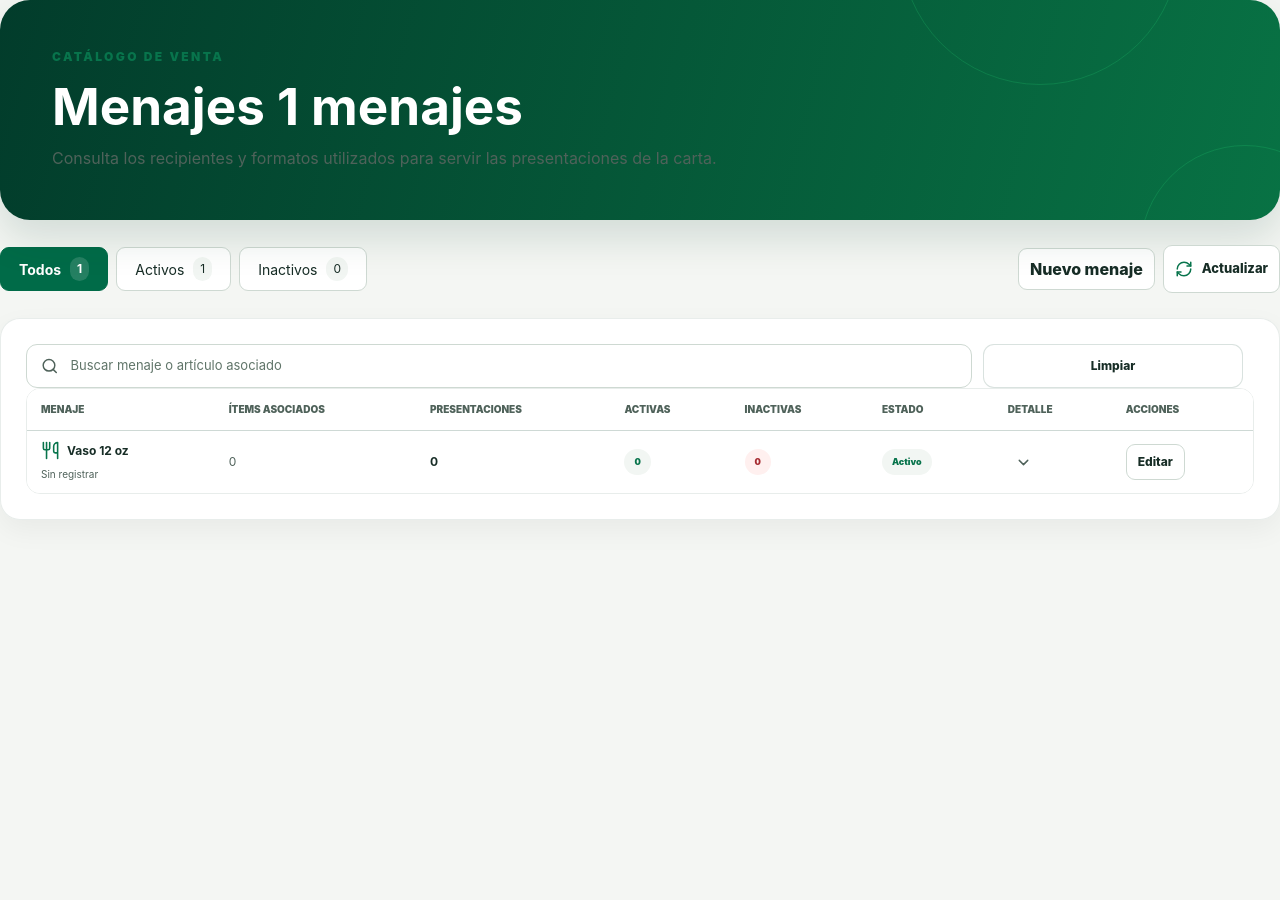
rejects zero measurements without sending a write
Click the button "Editar" at (1155, 462), box [1126,444,1185,480]
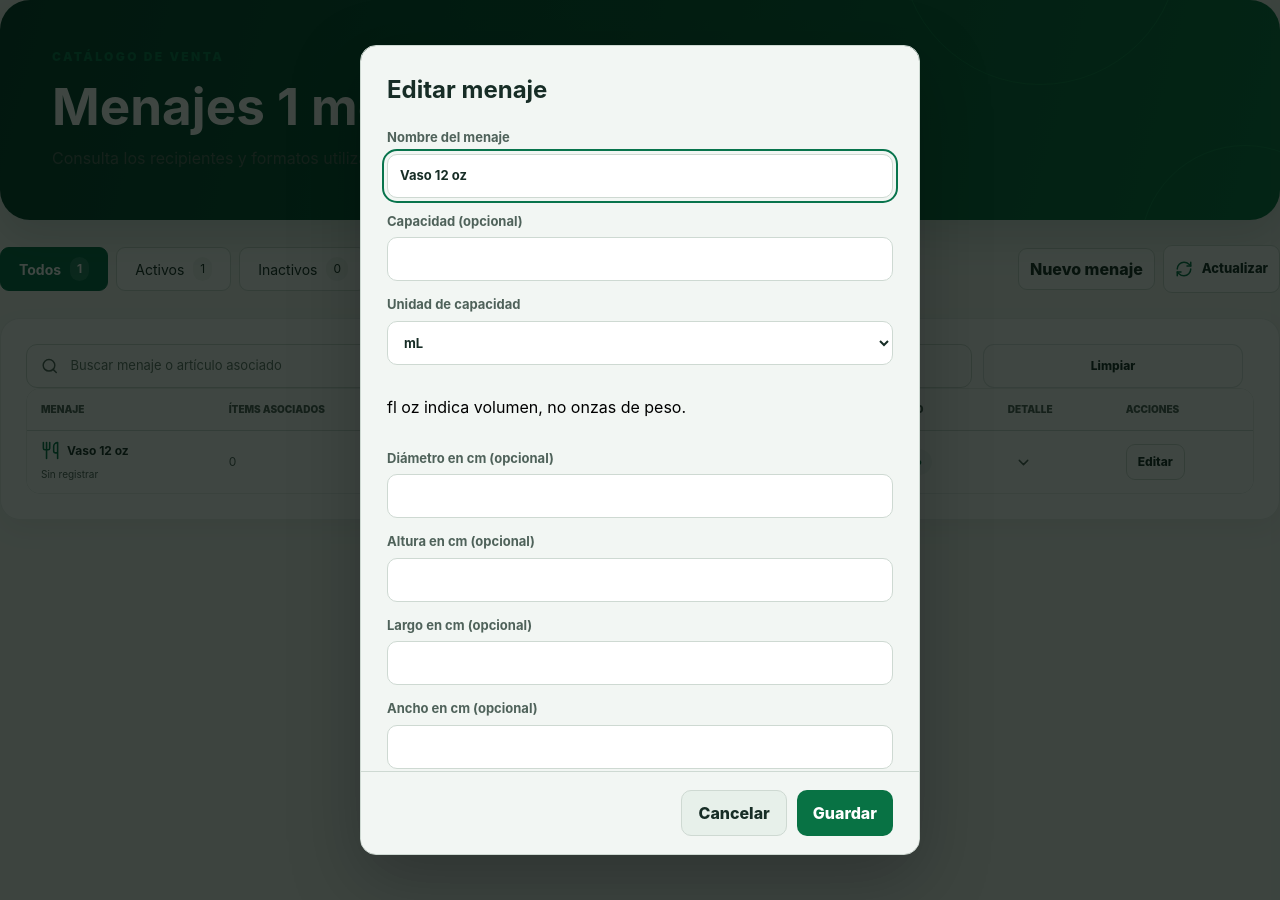
Type "0" into the number field labelled "Capacidad (opcional)" at (640, 259), box [387,237,893,281]
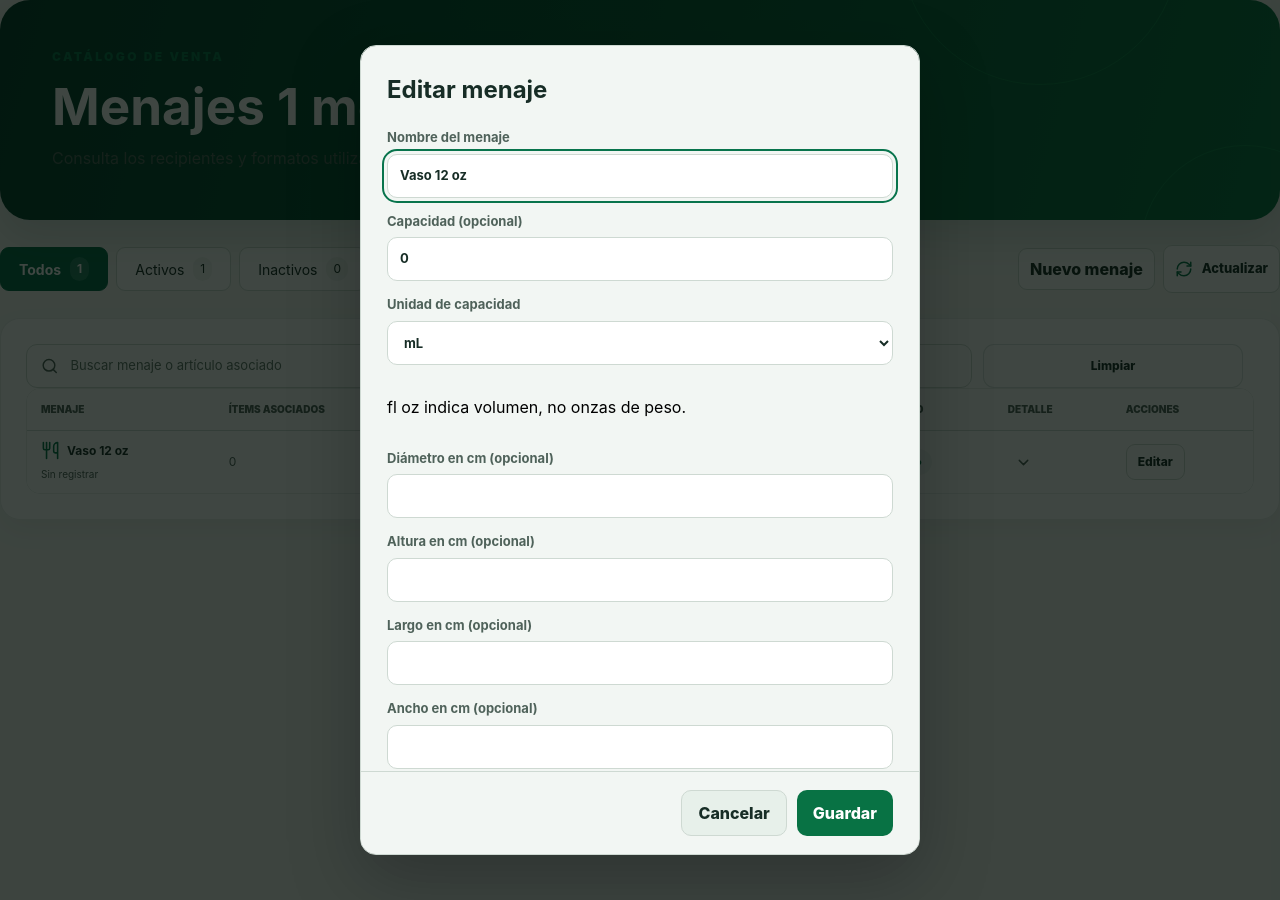
Click the button "Guardar" at (845, 813), box [797,790,893,836]
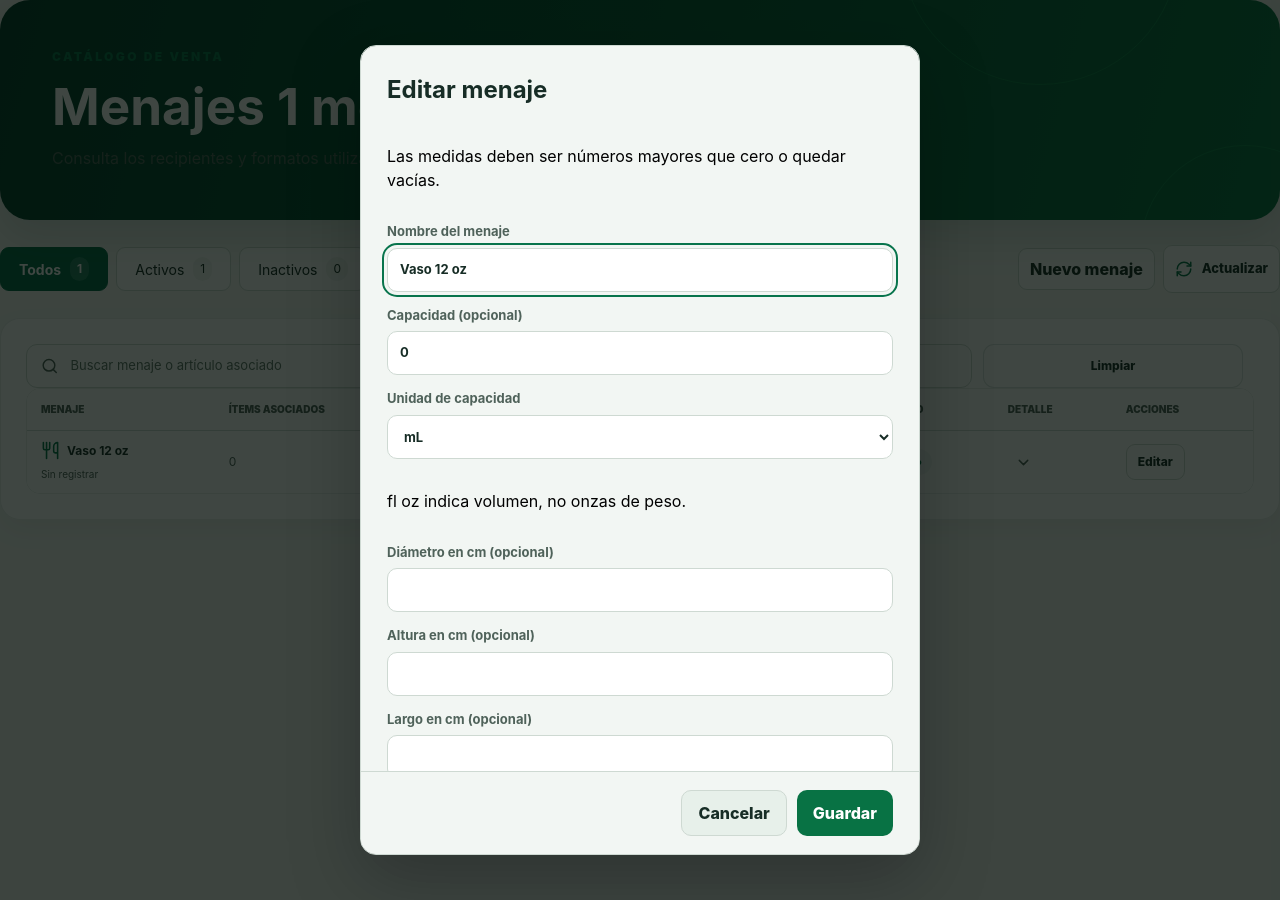
Expected: the message reads "Las medidas deben ser números mayores que cero o quedar vacías.", [387,146,846,190]
